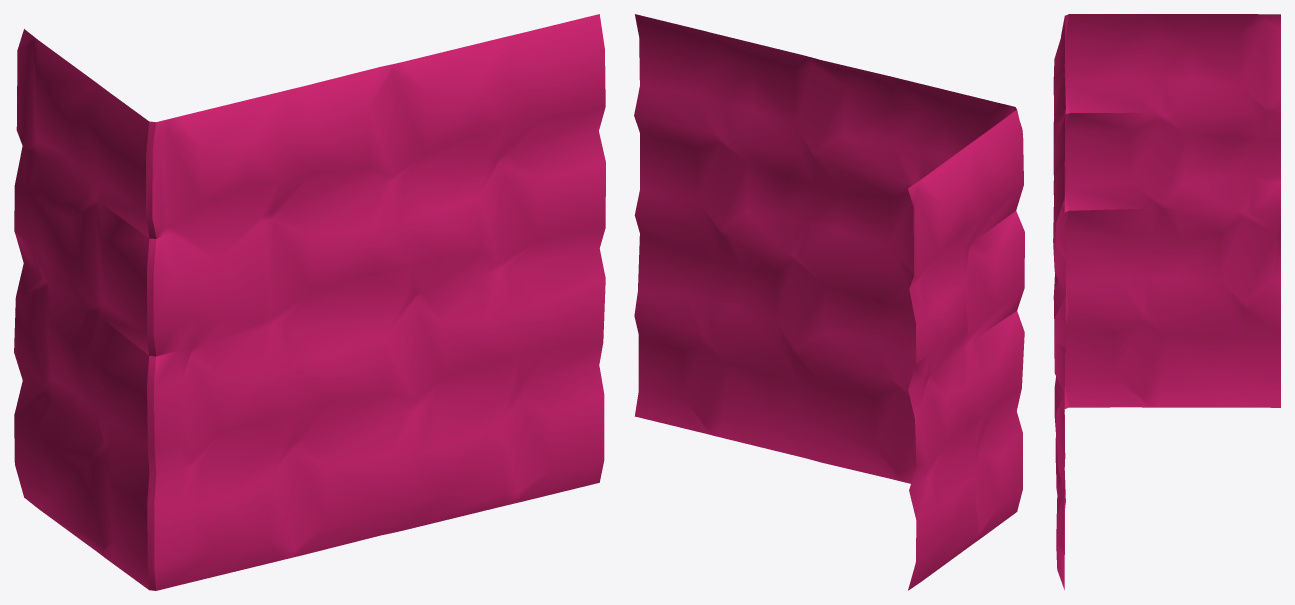
Rendered from BaseBrickCornerPiece.fbx.
3 renders of one model, left to right at view 1: azimuth 30°, elevation 25°; view 2: azimuth 150°, elevation 25°; view 3: azimuth 270°, elevation 25°, orthographic. The views are drawn at different scales.
Parts seen in each view (by area): view 1: BaseWallCornerPiece; view 2: BaseWallCornerPiece; view 3: BaseWallCornerPiece.
Part boxes in pixels (<box>): BaseWallCornerPiece: <box>14,14,605,590</box>; BaseWallCornerPiece: <box>634,14,1024,590</box>; BaseWallCornerPiece: <box>1053,14,1280,589</box>.
Bounding box in the file's own units: 103 × 100 × 52.47.
